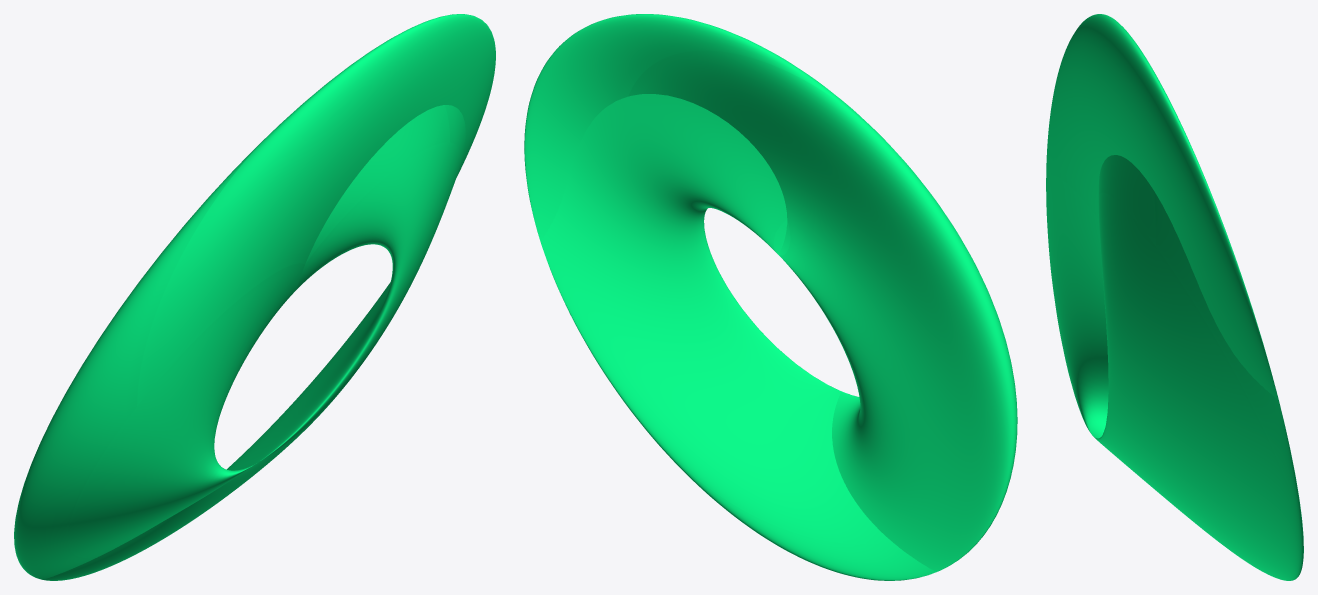
Rendered from gosset_polytope_8d_ar_universal.glb.
3 renders of one model, left to right at view 1: azimuth 30°, elevation 25°; view 2: azimuth 150°, elevation 25°; view 3: azimuth 270°, elevation 25°, orthographic. The views are drawn at different scales.
Parts seen in each view (by area): view 1: gosset_polytope_8d_ar; view 2: gosset_polytope_8d_ar; view 3: gosset_polytope_8d_ar.
Boxes of the visible parts, bbox=[...] form: gosset_polytope_8d_ar: bbox=[14, 14, 495, 580]; gosset_polytope_8d_ar: bbox=[524, 14, 1017, 580]; gosset_polytope_8d_ar: bbox=[1046, 14, 1303, 580].
Size of the model in its own units: 1 by 0.9795 by 0.3383.
